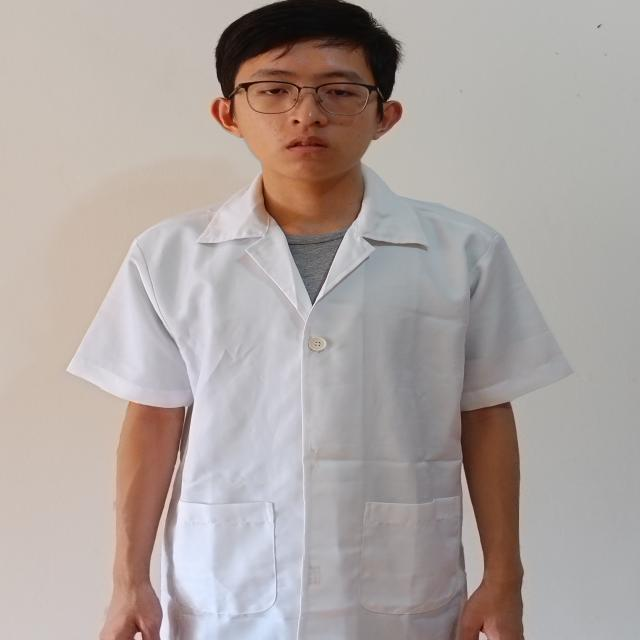person_with_labcoat: (69, 0, 571, 640)
